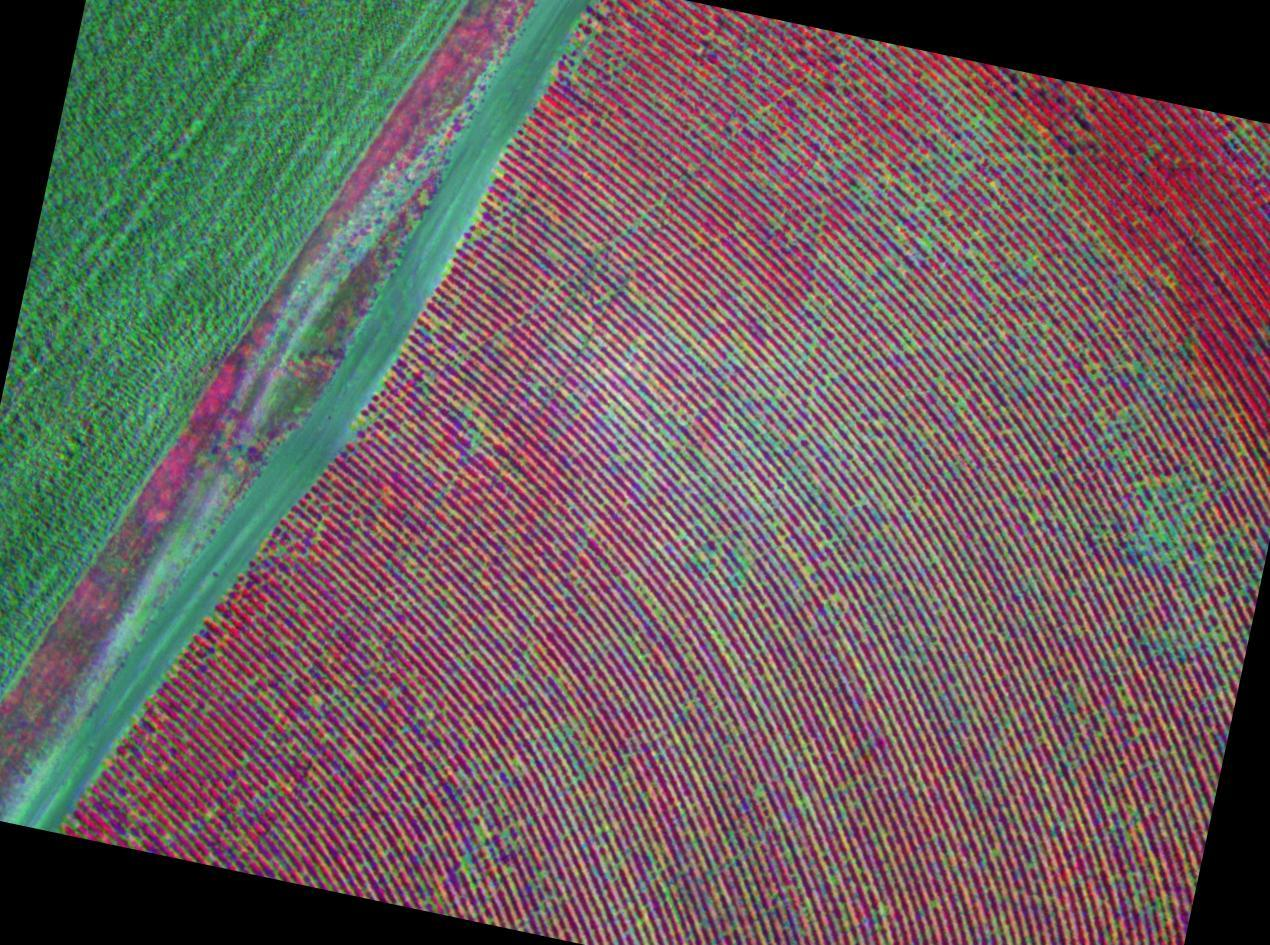dc: (475, 432, 480, 439), (474, 827, 479, 832), (637, 921, 641, 926), (513, 760, 516, 764)
